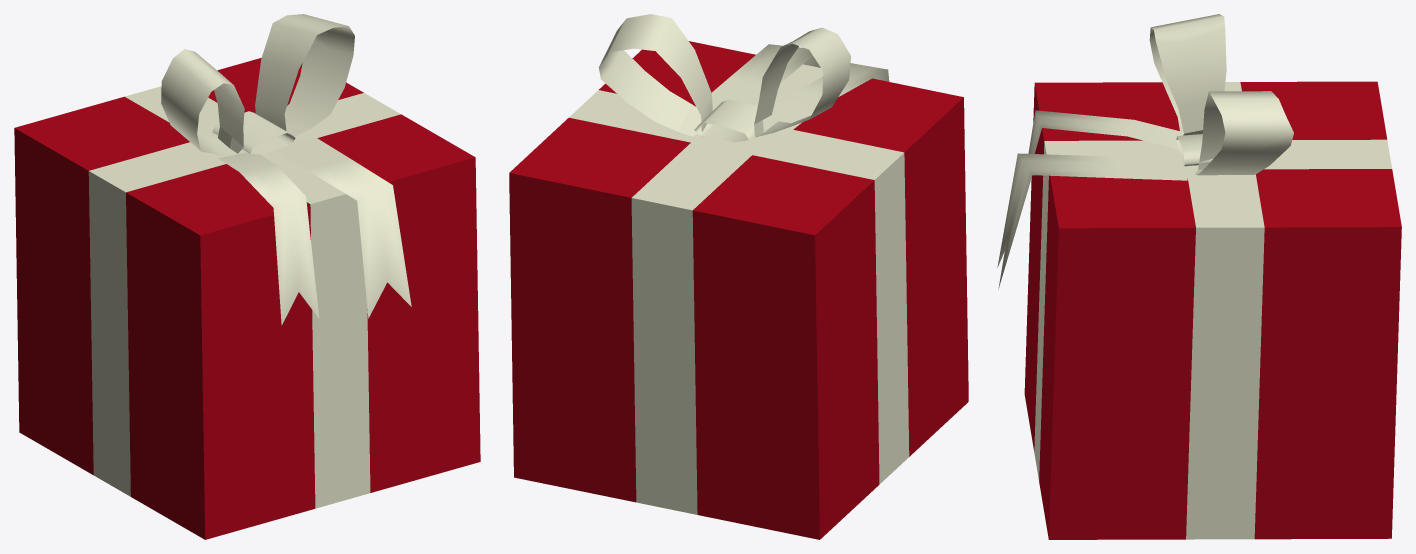
File: Santa_Claus_gift.fbx
The picture shows the model from 3 angles, left to right: view 1: azimuth 30°, elevation 25°; view 2: azimuth 150°, elevation 25°; view 3: azimuth 270°, elevation 25°; orthographic projection. The views are drawn at different scales.
Visible parts, largest first — view 1: Santa__Claus_Gift_ground; view 2: Santa__Claus_Gift_ground; view 3: Santa__Claus_Gift_ground.
Boxes of the visible parts, <box> form: Santa__Claus_Gift_ground: <box>14,14,480,539</box>; Santa__Claus_Gift_ground: <box>509,14,968,539</box>; Santa__Claus_Gift_ground: <box>997,14,1401,539</box>.
Size of the model in its own units: 44.82 by 57.27 by 49.36.
